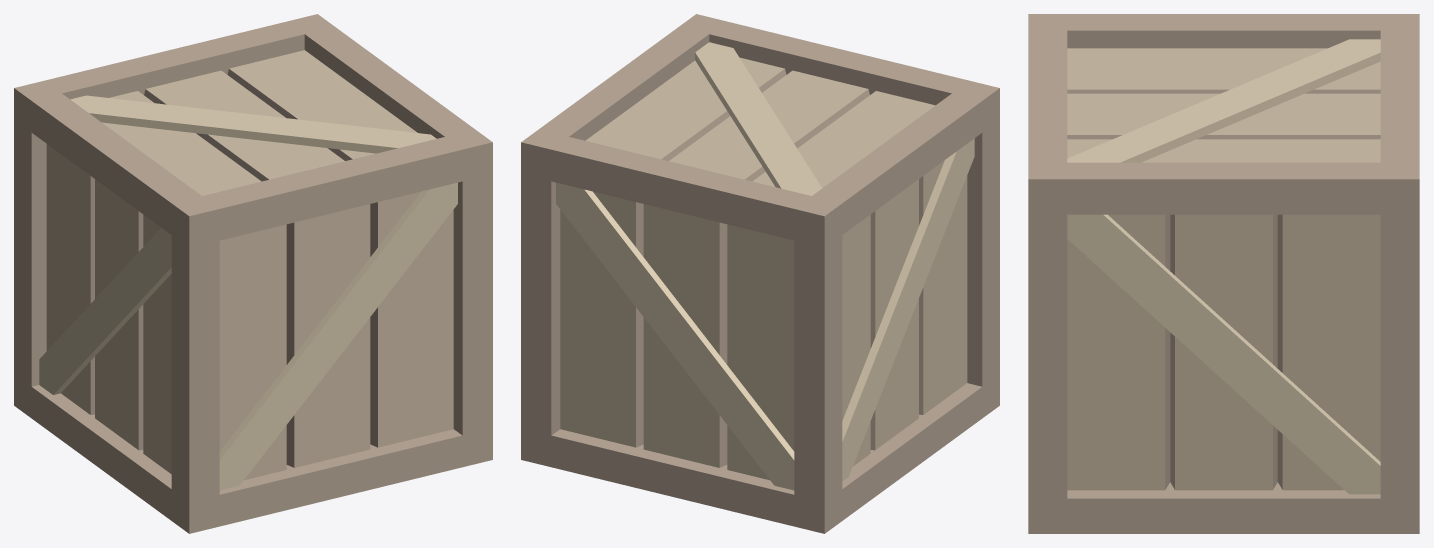
The model's file is Prop_Crate_1.glb.
The picture shows the model from 3 angles, left to right: view 1: azimuth 30°, elevation 25°; view 2: azimuth 150°, elevation 25°; view 3: azimuth 270°, elevation 25°; orthographic projection. The views are drawn at different scales.
Visible parts, largest first — view 1: object7, object3, object4, object2; view 2: object7, object6, object2, object4; view 3: object7, object5, object4.
Boxes of the visible parts, box(x1,y1,x2,y2) form: object7: box(14, 14, 492, 533); object3: box(219, 182, 457, 490); object4: box(70, 95, 436, 153); object2: box(39, 227, 171, 394); object7: box(521, 14, 999, 533); object6: box(556, 182, 794, 490); object2: box(842, 138, 974, 481); object4: box(695, 42, 822, 195); object7: box(1028, 14, 1419, 533); object5: box(1067, 214, 1380, 494); object4: box(1067, 39, 1380, 162).
Bounding box in the file's own units: 1 × 1 × 1.
